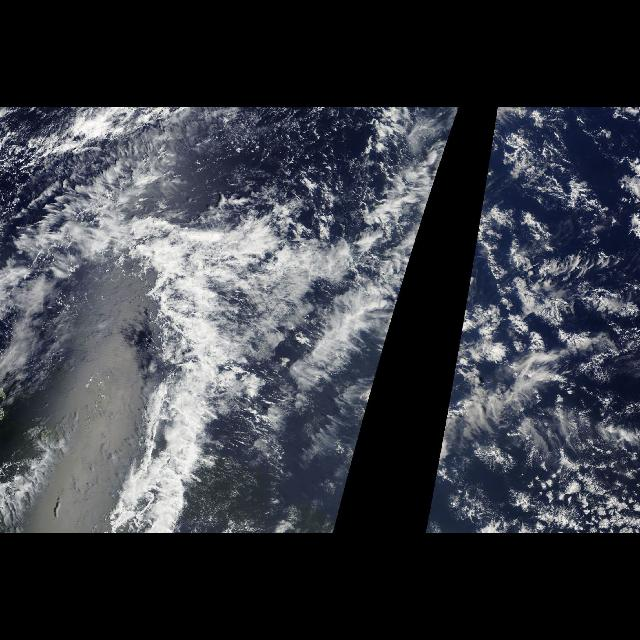Gravel: (502, 128, 636, 448)
Sugar: (228, 110, 360, 187)
